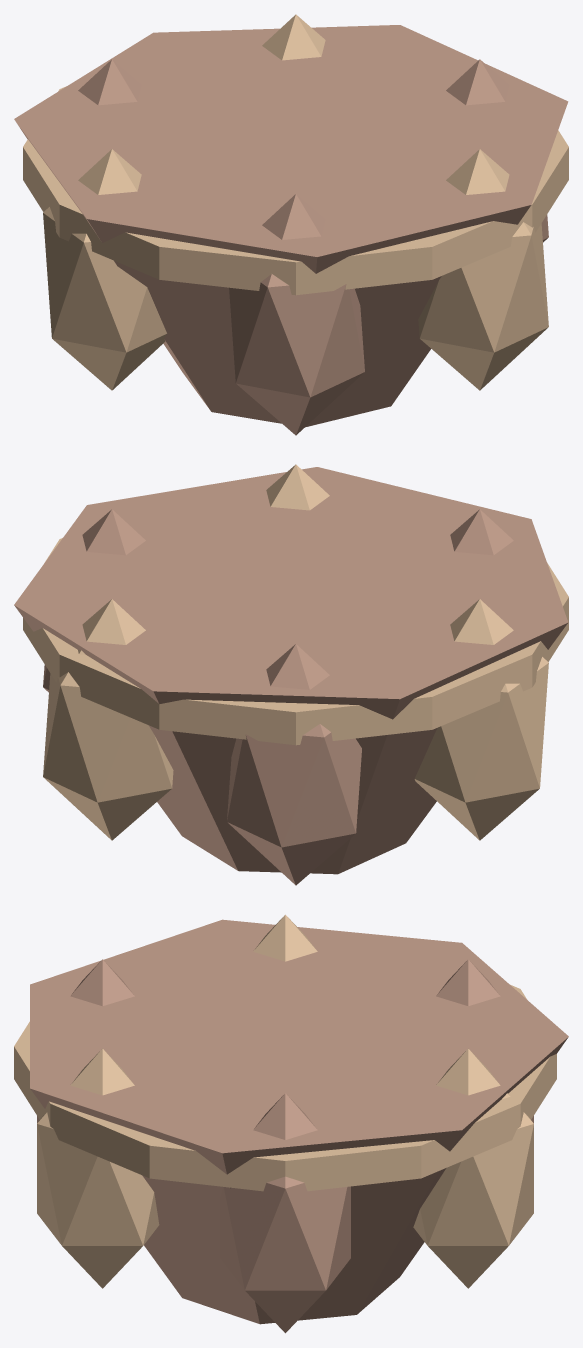
3 renders of one model, top to bottom at view 1: azimuth 30°, elevation 25°; view 2: azimuth 150°, elevation 25°; view 3: azimuth 270°, elevation 25°, orthographic.
Parts seen in each view (by area): view 1: ai_export.007; view 2: ai_export.007; view 3: ai_export.007.
Boxes of the visible parts, <box> form: ai_export.007: <box>14,14,568,435</box>; ai_export.007: <box>14,464,568,885</box>; ai_export.007: <box>14,914,568,1333</box>.
Size of the model in its own units: 2.32 by 1.25 by 2.3.
